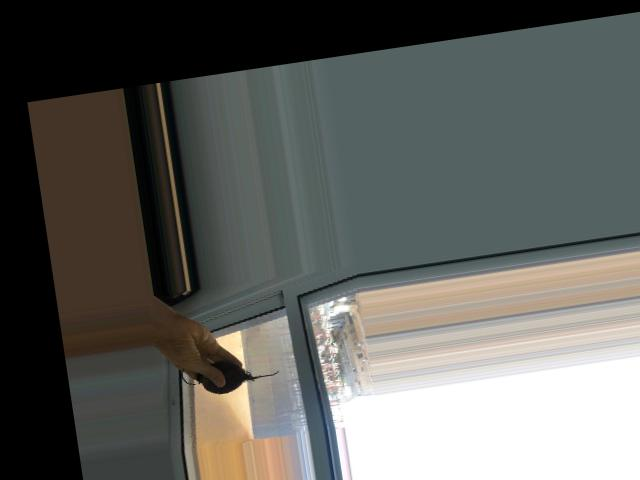beet: (179, 343, 281, 399)
